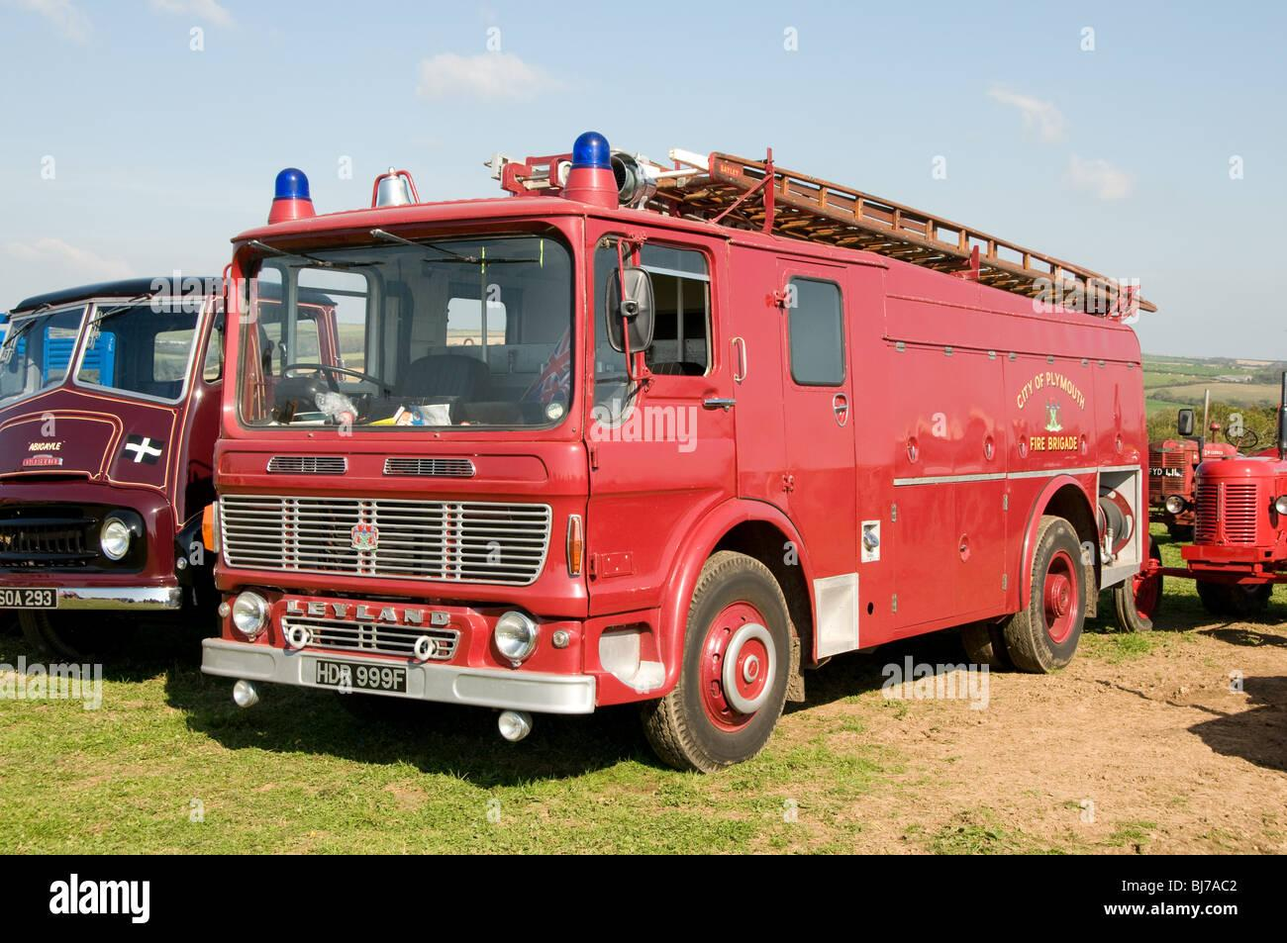Fire-engine: (208, 139, 1144, 780)
